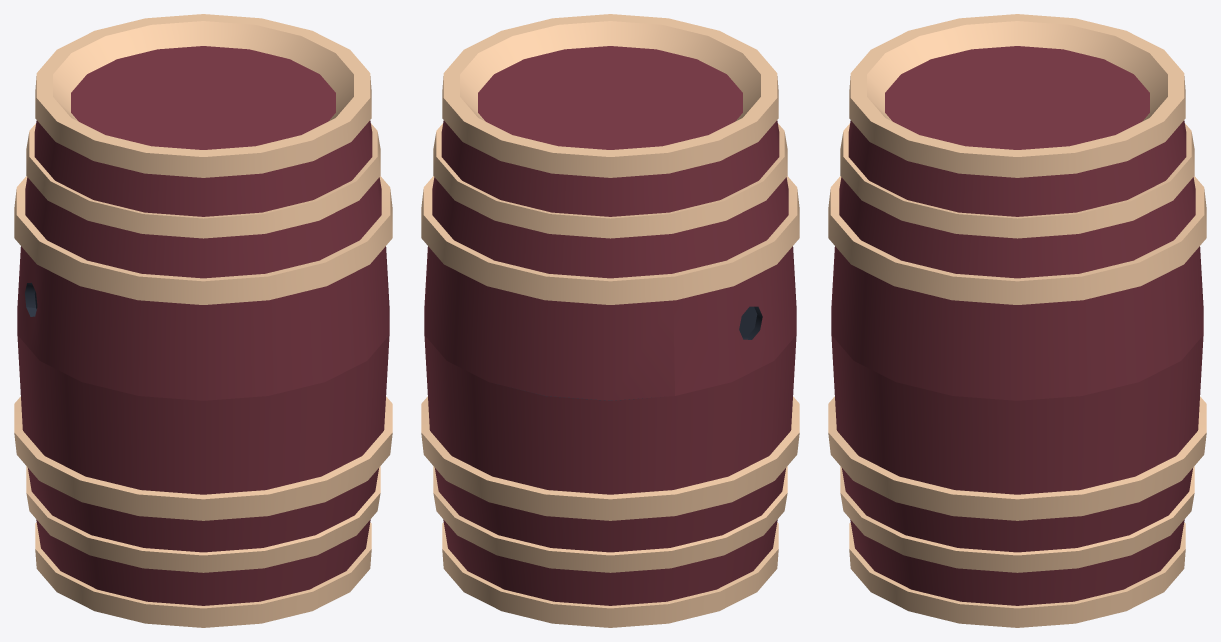
The model's file is KM_tonneau.FBX.
3 renders of one model, left to right at view 1: azimuth 30°, elevation 25°; view 2: azimuth 150°, elevation 25°; view 3: azimuth 270°, elevation 25°, orthographic.
Parts seen in each view (by area): view 1: Haut_tonneau001, Object, Bas_tonneau001, Object002; view 2: Haut_tonneau001, Object, Bas_tonneau001, Object002; view 3: Haut_tonneau001, Object, Bas_tonneau001, Object002.
Boxes of the visible parts, bbox=[...] form: Haut_tonneau001: bbox=[26, 14, 380, 238]; Object: bbox=[14, 176, 392, 400]; Bas_tonneau001: bbox=[14, 335, 392, 520]; Object002: bbox=[26, 466, 380, 627]; Haut_tonneau001: bbox=[433, 14, 787, 238]; Object: bbox=[421, 176, 799, 400]; Bas_tonneau001: bbox=[421, 335, 799, 520]; Object002: bbox=[433, 466, 787, 627]; Haut_tonneau001: bbox=[840, 14, 1194, 238]; Object: bbox=[828, 176, 1206, 400]; Bas_tonneau001: bbox=[828, 335, 1206, 520]; Object002: bbox=[840, 466, 1194, 627].
Size of the model in its own units: 29.67 by 40.1 by 29.22.
